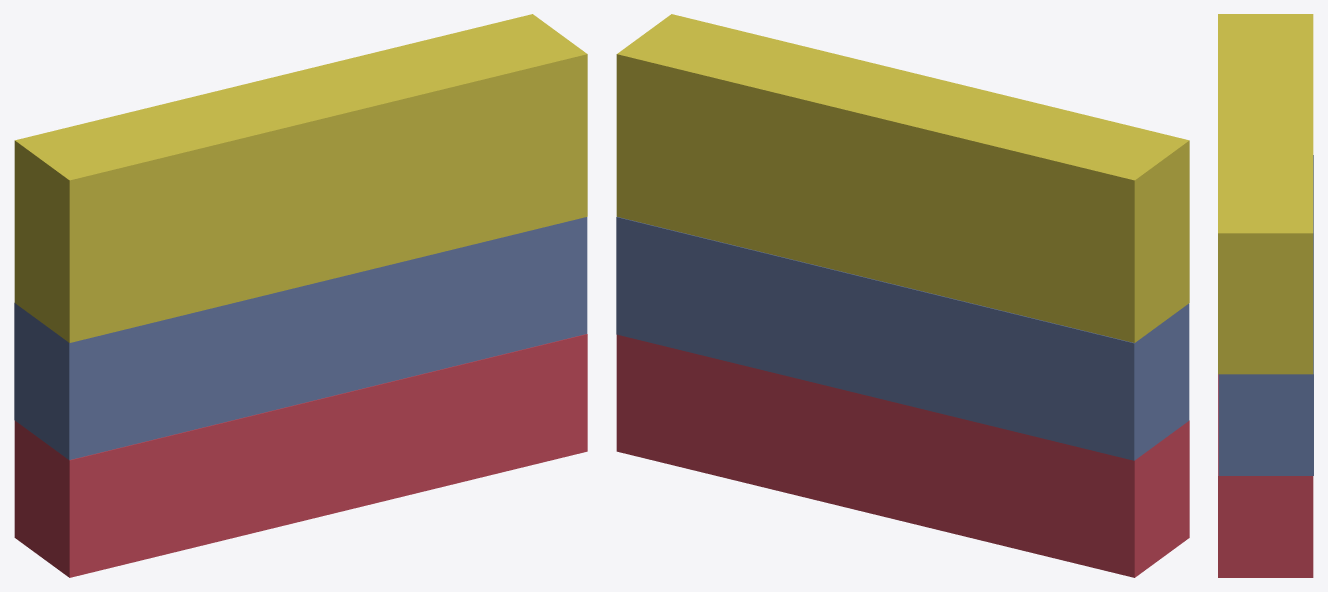
File: Tremendous Turing-Borwo (1).glb
The picture shows the model from 3 angles, left to right: view 1: azimuth 30°, elevation 25°; view 2: azimuth 150°, elevation 25°; view 3: azimuth 270°, elevation 25°; orthographic projection. The views are drawn at different scales.
Visible parts, largest first — view 1: Mesh_Mesh_head_geo.001_lambert2SG.001; view 2: Mesh_Mesh_head_geo.001_lambert2SG.001; view 3: Mesh_Mesh_head_geo.001_lambert2SG.001.
Part boxes in pixels (<box>): Mesh_Mesh_head_geo.001_lambert2SG.001: <box>14,14,587,577</box>; Mesh_Mesh_head_geo.001_lambert2SG.001: <box>616,14,1189,577</box>; Mesh_Mesh_head_geo.001_lambert2SG.001: <box>1218,14,1313,577</box>.
Size of the model in its own units: 0.06 by 0.044 by 0.0111.
